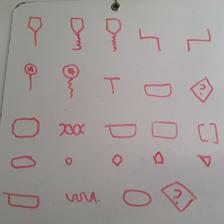complex-sbgn: (12, 117, 39, 137)
dna-stability-element: (29, 17, 42, 47)
dsNA: (59, 122, 86, 136)
five-prime-sticky-restriction-site: (139, 29, 160, 51)
generic-sbgn: (123, 189, 152, 207)
halfround-rectangle: (2, 191, 40, 209), (104, 124, 137, 138), (145, 83, 172, 98)
macromolecule: (152, 120, 178, 139)
no-glyph-assigned: (198, 123, 220, 145)
protein: (11, 155, 37, 169)
protein-stability-element: (71, 17, 84, 50)
replacement-glyph: (161, 181, 198, 212), (190, 77, 214, 103)
rna-stability-element: (106, 18, 121, 52)
simple-chemical-circle: (65, 157, 73, 165)
simple-chemical-hexagon: (112, 153, 123, 166)
simple-chemical-pentagon: (153, 151, 165, 164)
simple-chemical-triangle: (198, 154, 213, 168)
ssNA: (64, 192, 98, 203)
terminator: (104, 76, 120, 95)
three-prime-sticky-restriction-site: (187, 28, 212, 53)
transcription-end: (25, 63, 38, 92)
translation-end: (62, 64, 79, 99)
